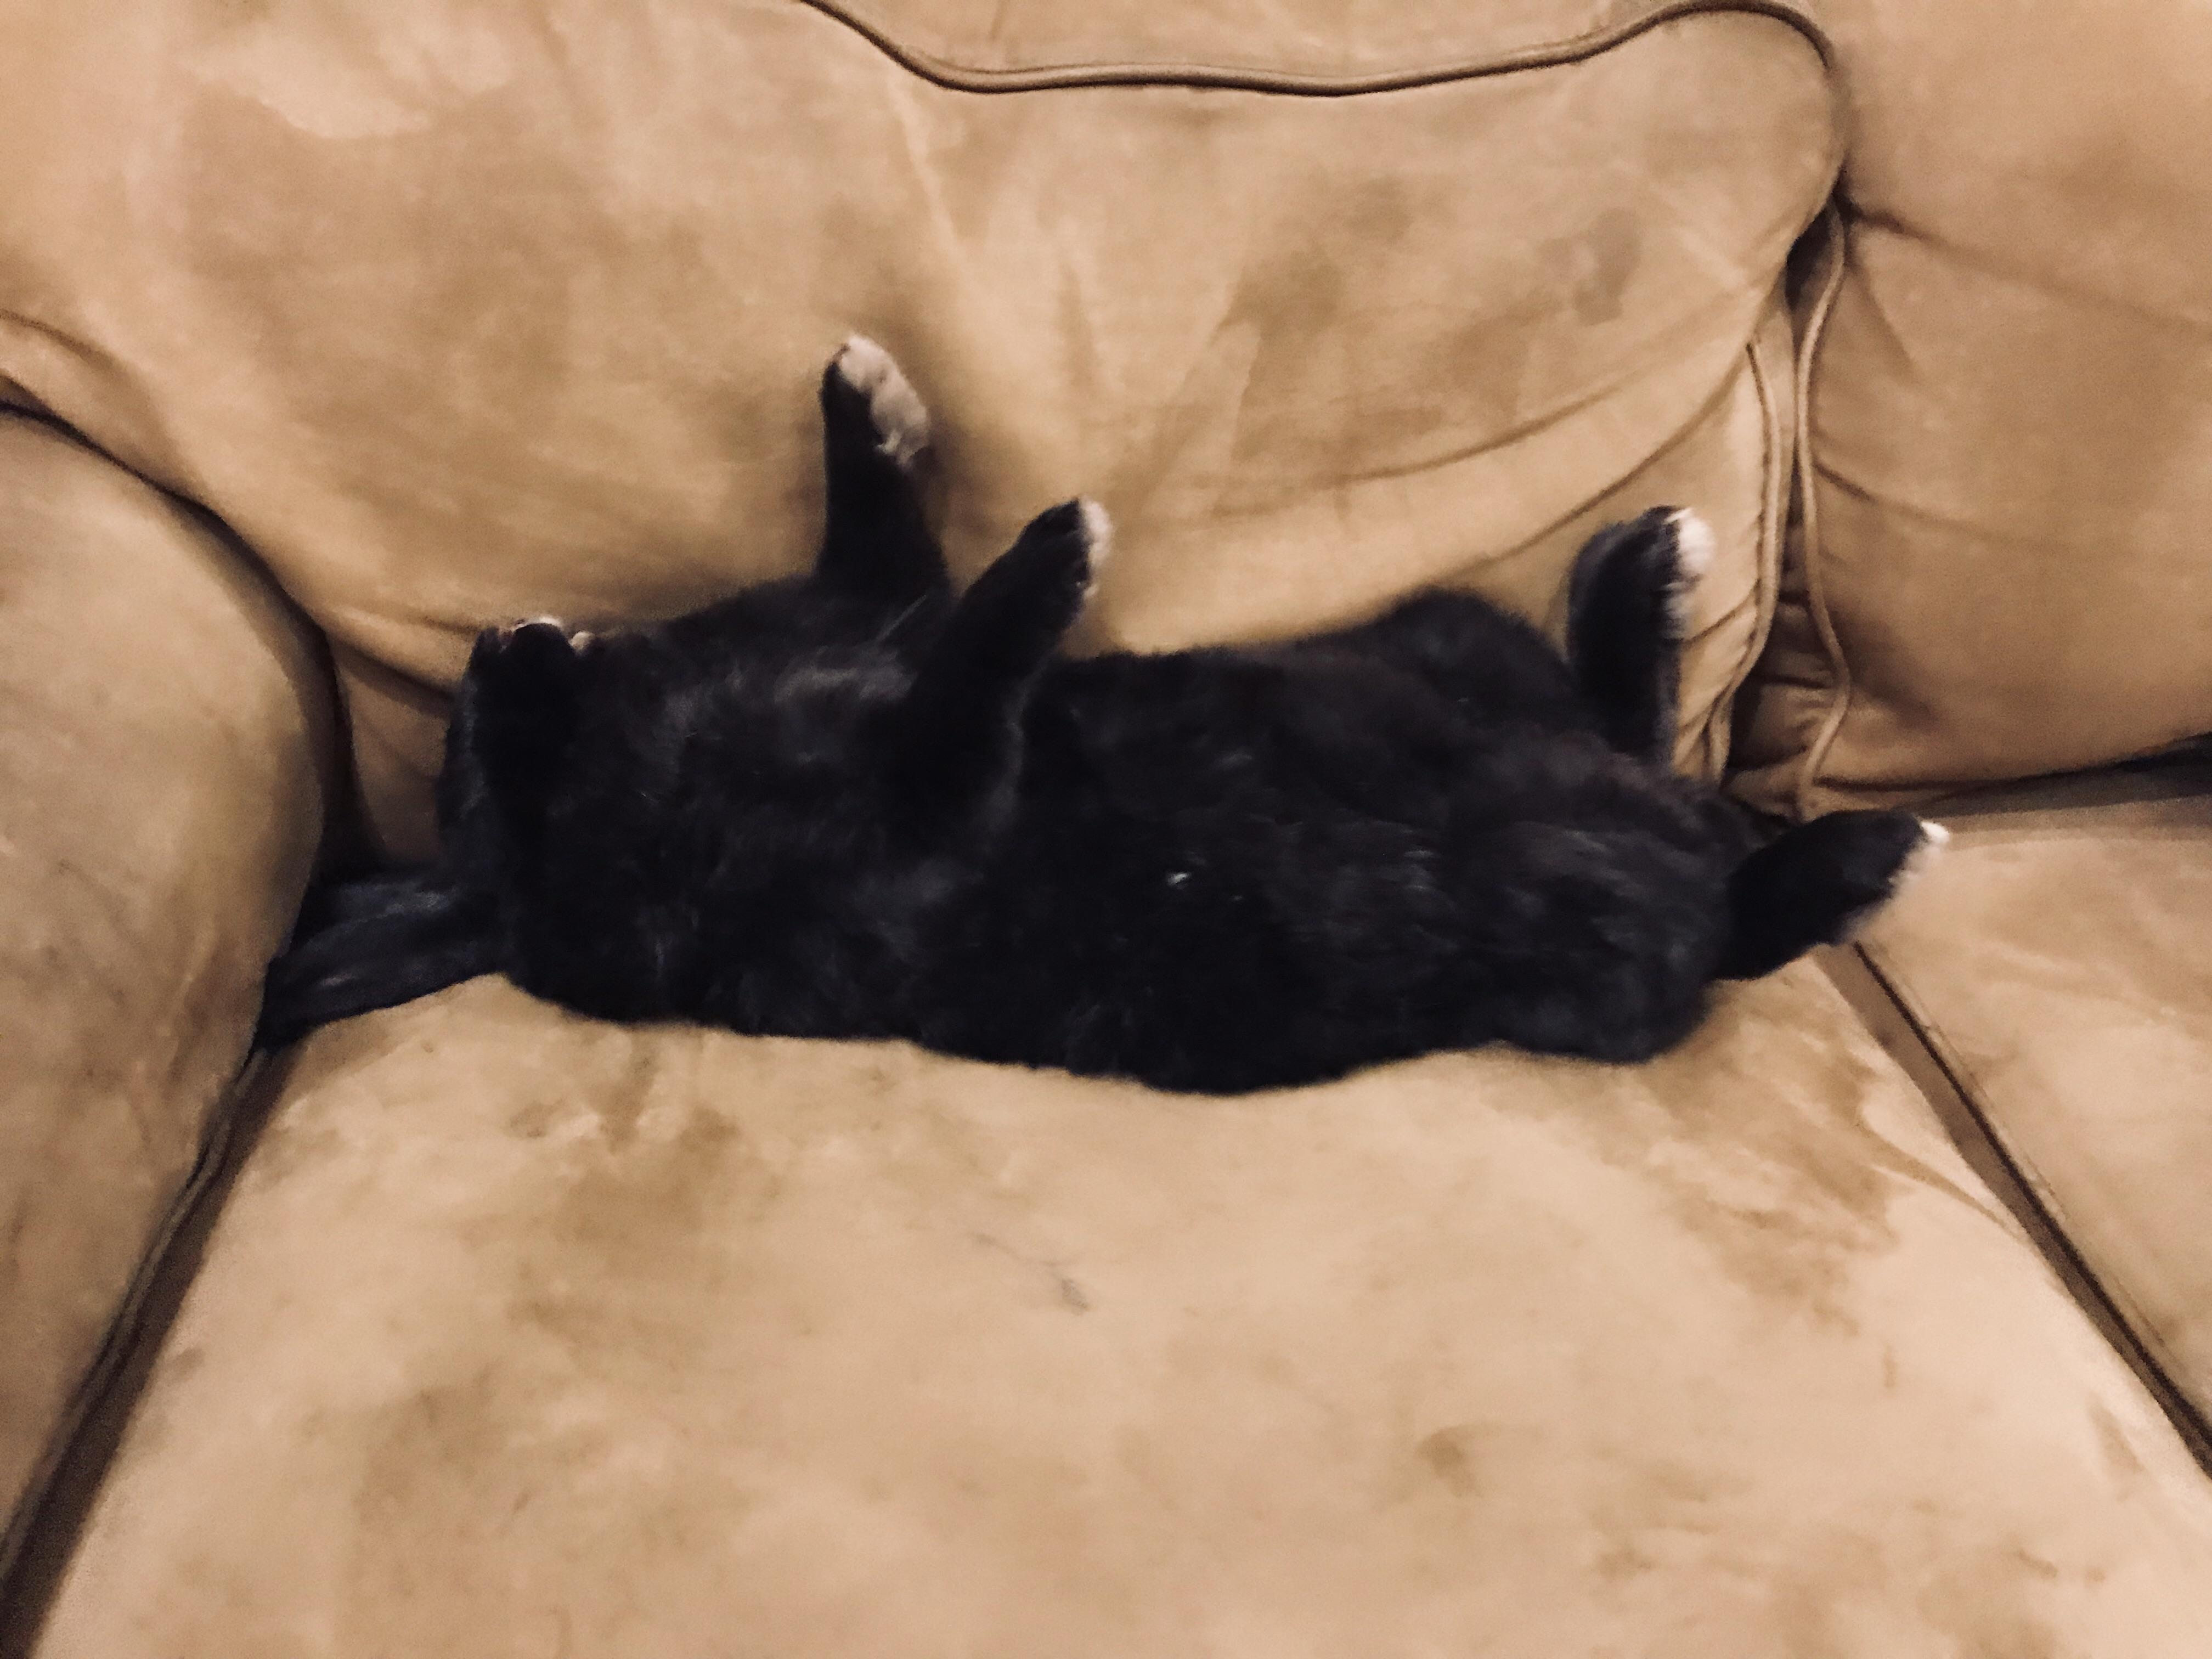bunny: (179, 308, 1968, 1220)
